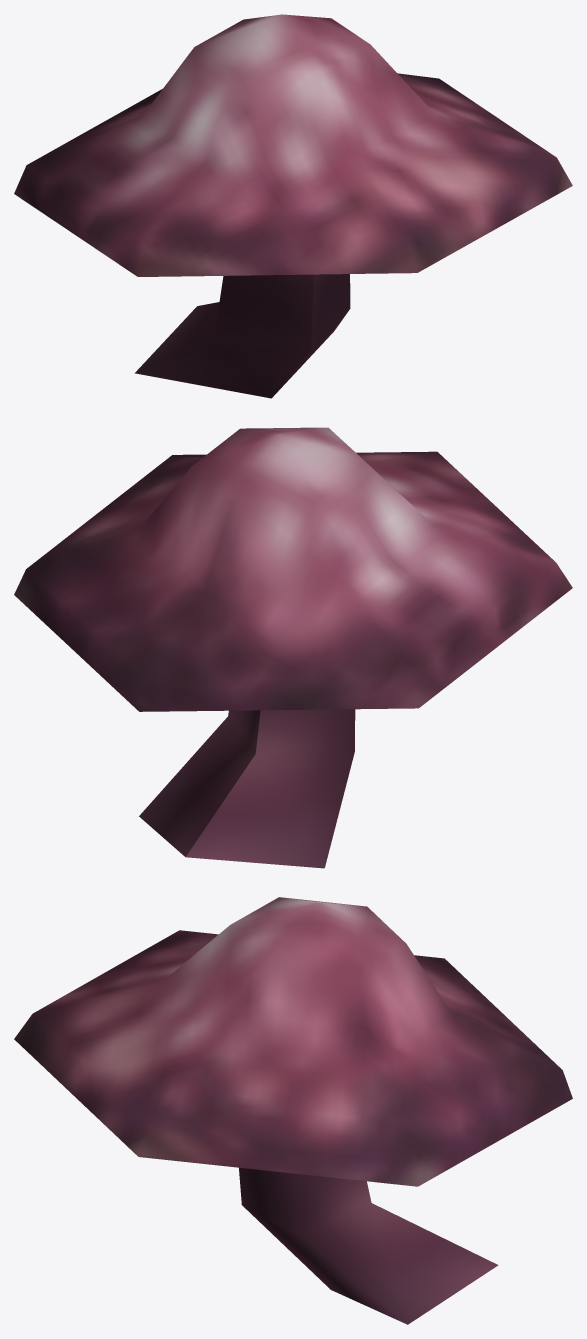
The model's file is FB11_mogu2.fbx.
3 views of the same model, one above another, from view 1: azimuth 30°, elevation 25°; view 2: azimuth 150°, elevation 25°; view 3: azimuth 270°, elevation 25° (orthographic).
Visible parts, largest first — view 1: pasted__polySurface119; view 2: pasted__polySurface119; view 3: pasted__polySurface119.
Boxes of the visible parts, box(x1,y1,x2,y2) form: pasted__polySurface119: box(14, 14, 572, 398); pasted__polySurface119: box(14, 427, 572, 868); pasted__polySurface119: box(14, 897, 572, 1324).
Size of the model in its own units: 116 by 98.97 by 129.
1 material, 1 textured.
